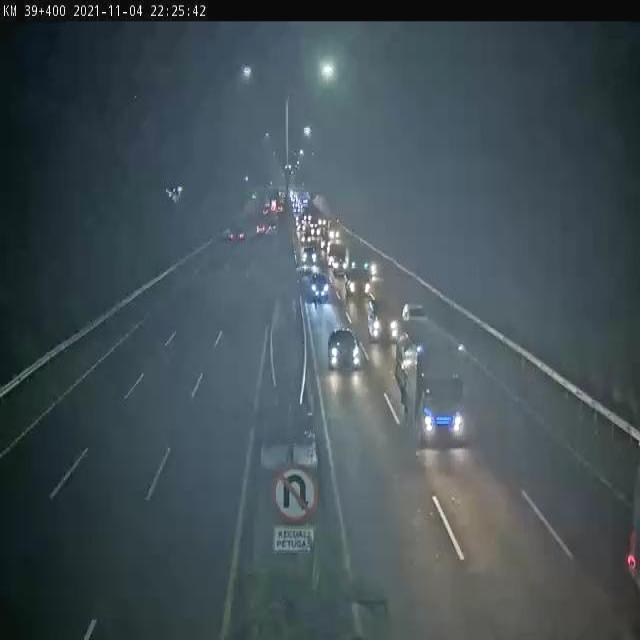Car: (326, 322, 366, 377), (366, 294, 402, 347), (343, 267, 373, 302), (308, 276, 339, 308), (398, 303, 431, 332), (295, 242, 322, 272)
Truck: (382, 330, 489, 445)
